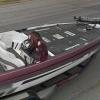Boat: (4, 18, 96, 92)
